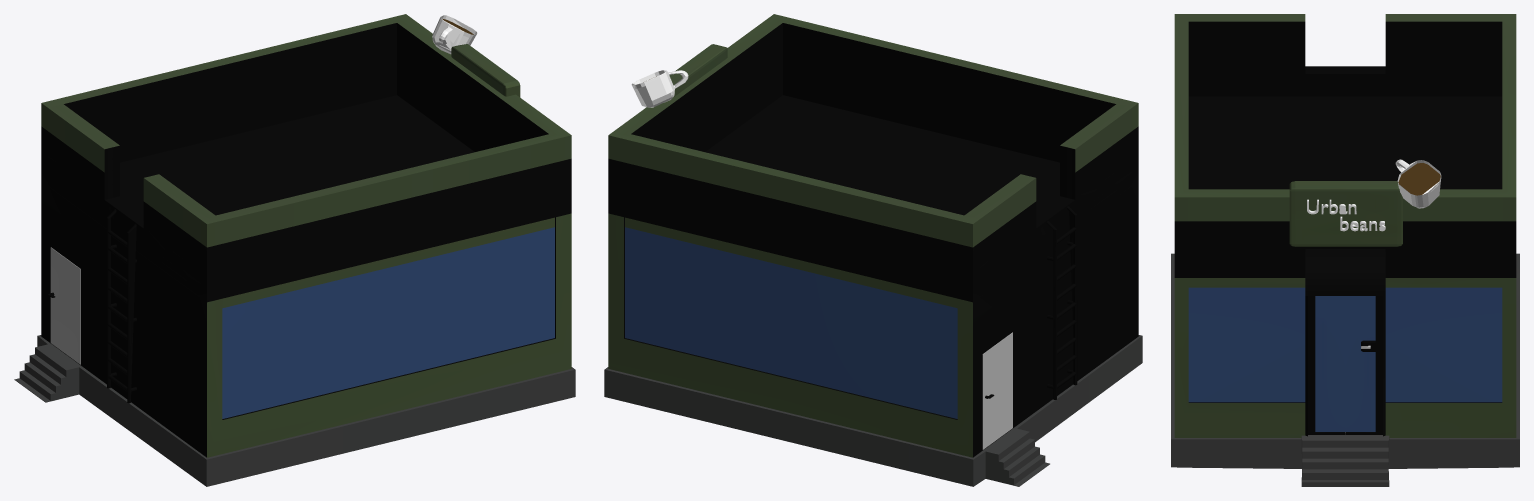
File: cofee.fbx
3 views of the same model, side by side, from view 1: azimuth 30°, elevation 25°; view 2: azimuth 150°, elevation 25°; view 3: azimuth 270°, elevation 25° (orthographic). The views are drawn at different scales.
Visible parts, largest first — view 1: Building_Coffee; view 2: Building_Coffee; view 3: Building_Coffee.
Part boxes in pixels (x1,y1,x2,y2): Building_Coffee: (14, 14, 575, 486); Building_Coffee: (604, 14, 1142, 486); Building_Coffee: (1171, 14, 1519, 486).
Size of the model in its own units: 11.86 by 7.62 by 7.94.
1 material, 1 textured.
